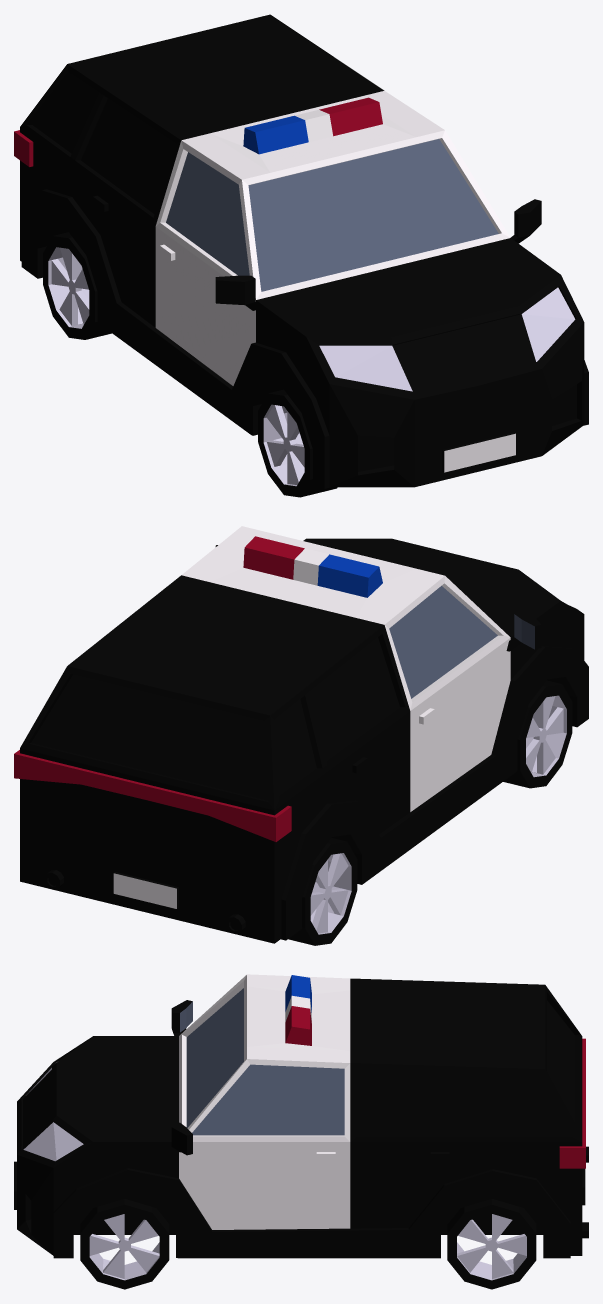
The model's file is Police_SUV.glb.
The picture shows the model from 3 angles, top to bottom: view 1: azimuth 30°, elevation 25°; view 2: azimuth 150°, elevation 25°; view 3: azimuth 270°, elevation 25°; orthographic projection. The views are drawn at different scales.
Visible parts, largest first — view 1: Police SUV_body black_0, Police SUV_windows_0, Police SUV_body white_0, Police SUV_headlights_0, Police SUV wheel rear right_wheels_0, Police SUV wheel front right_wheels_0, Police SUV wheel front right_tires_0, Police SUV wheel rear right_tires_0, Police SUV_flashers siren blue_0, Police SUV_flashers siren red_0; view 2: Police SUV_body black_0, Police SUV_body white_0, Police SUV_windows_0, Police SUV_rear lights_0, Police SUV wheel rear right_wheels_0, Police SUV wheel front right_wheels_0, Police SUV wheel rear right_tires_0, Police SUV wheel front right_tires_0, Police SUV_flashers siren blue_0, Police SUV_flashers siren red_0; view 3: Police SUV_body black_0, Police SUV_body white_0, Police SUV_windows_0, Police SUV wheel front left_tires_0, Police SUV wheel rear left_tires_0, Police SUV wheel front left_wheels_0, Police SUV wheel rear left_wheels_0, Police SUV_headlights_0, Police SUV_rear lights_0, Police SUV_flashers siren red_0, Police SUV_flashers siren blue_0.
Part boxes in pixels (x1,y1,x2,y2): Police SUV_body black_0: [20, 14, 588, 488]; Police SUV_windows_0: [166, 139, 498, 291]; Police SUV_body white_0: [155, 91, 515, 472]; Police SUV_headlights_0: [319, 287, 575, 391]; Police SUV wheel rear right_wheels_0: [48, 247, 89, 328]; Police SUV wheel front right_wheels_0: [263, 404, 304, 486]; Police SUV wheel front right_tires_0: [258, 389, 337, 497]; Police SUV wheel rear right_tires_0: [43, 232, 111, 339]; Police SUV_flashers siren blue_0: [243, 115, 308, 154]; Police SUV_flashers siren red_0: [319, 97, 382, 136]; Police SUV_body black_0: [20, 538, 588, 943]; Police SUV_body white_0: [113, 526, 510, 908]; Police SUV_windows_0: [389, 586, 534, 698]; Police SUV_rear lights_0: [14, 750, 291, 841]; Police SUV wheel rear right_wheels_0: [310, 853, 351, 934]; Police SUV wheel front right_wheels_0: [526, 695, 566, 777]; Police SUV wheel rear right_tires_0: [288, 838, 357, 945]; Police SUV wheel front right_tires_0: [503, 680, 572, 788]; Police SUV_flashers siren blue_0: [317, 554, 382, 597]; Police SUV_flashers siren red_0: [243, 536, 304, 579]; Police SUV_body black_0: [14, 978, 588, 1258]; Police SUV_body white_0: [179, 974, 350, 1229]; Police SUV_windows_0: [180, 988, 344, 1135]; Police SUV wheel front left_tires_0: [80, 1199, 169, 1289]; Police SUV wheel rear left_tires_0: [447, 1199, 536, 1289]; Police SUV wheel front left_wheels_0: [89, 1214, 159, 1280]; Police SUV wheel rear left_wheels_0: [457, 1214, 526, 1280]; Police SUV_headlights_0: [23, 1062, 83, 1161]; Police SUV_rear lights_0: [559, 1038, 585, 1168]; Police SUV_flashers siren red_0: [285, 1006, 311, 1045]; Police SUV_flashers siren blue_0: [285, 975, 311, 1012].
Bounding box in the file's own units: 2.81 × 2.26 × 5.04.
